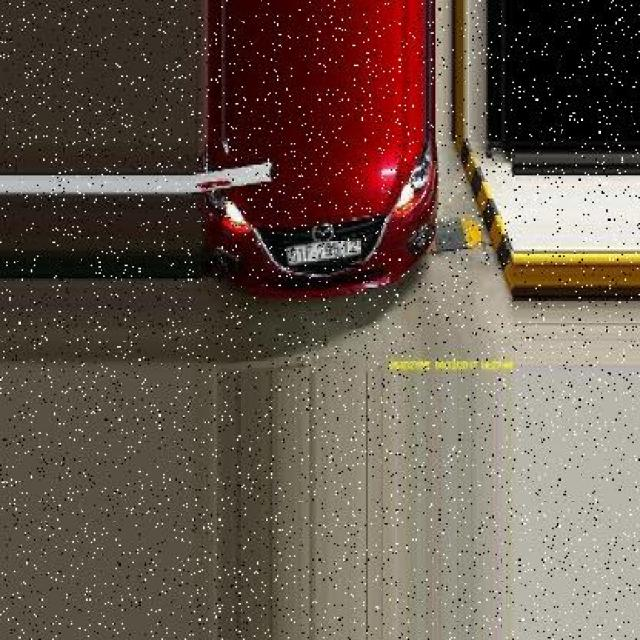number_plate: (288, 241, 362, 268)
